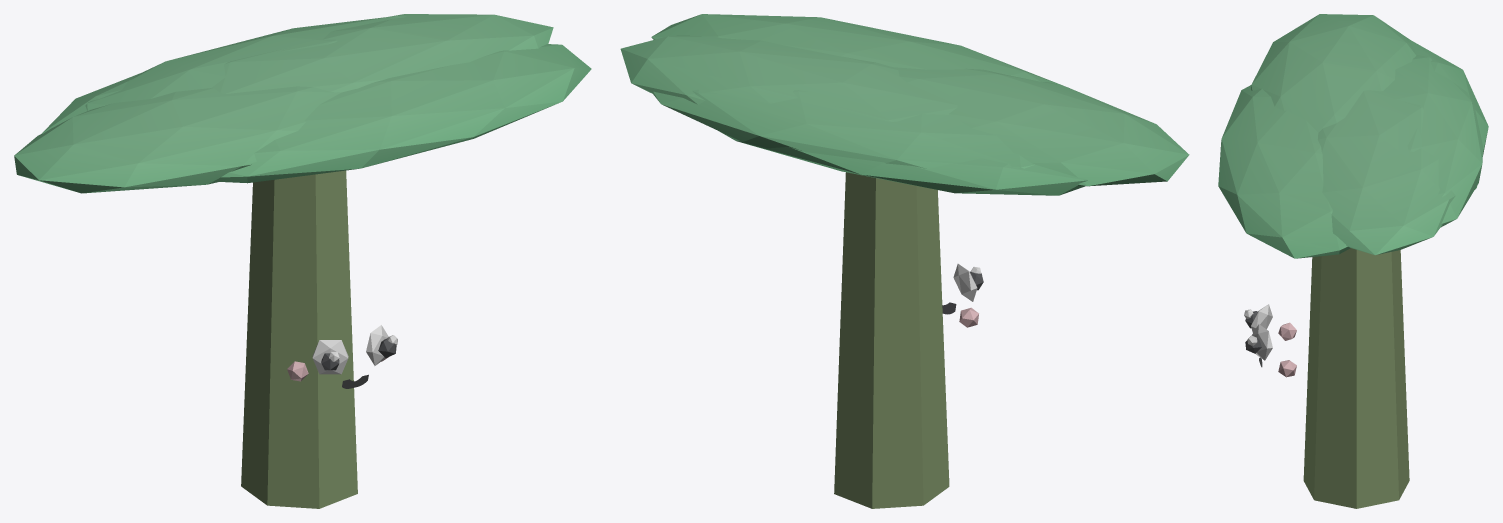
The model's file is alpinia-purpurata.glb.
The picture shows the model from 3 angles, left to right: view 1: azimuth 30°, elevation 25°; view 2: azimuth 150°, elevation 25°; view 3: azimuth 270°, elevation 25°; orthographic projection. The views are drawn at different scales.
Visible parts, largest first — view 1: pseudostem, leaf1, leaf2, leaf0, leaf3, leaf4, pface-eye-r; view 2: pseudostem, leaf2, leaf0, leaf3, leaf1, leaf4; view 3: pseudostem, leaf0, leaf1, leaf2, leaf3, leaf4, pface-eye-l, pface-eye-r.
Part boxes in pixels (x1,y1,x2,y2): pseudostem: (241, 170, 357, 508); leaf1: (220, 44, 591, 183); leaf2: (14, 86, 340, 193); leaf0: (212, 14, 553, 93); leaf3: (85, 16, 406, 110); leaf4: (42, 73, 139, 133); pface-eye-r: (312, 340, 348, 374); pseudostem: (834, 172, 949, 508); leaf2: (893, 67, 1189, 186); leaf0: (620, 35, 957, 121); leaf3: (653, 89, 1034, 168); leaf1: (651, 14, 1068, 87); leaf4: (720, 132, 1087, 195); pseudostem: (1303, 248, 1409, 508); leaf0: (1317, 90, 1455, 255); leaf1: (1218, 85, 1350, 258); leaf2: (1251, 14, 1416, 132); leaf3: (1383, 55, 1483, 227); leaf4: (1408, 39, 1488, 189); pface-eye-l: (1252, 324, 1272, 360); pface-eye-r: (1251, 304, 1272, 332).
Size of the model in its own units: 0.6235 by 0.4458 by 0.2986.
